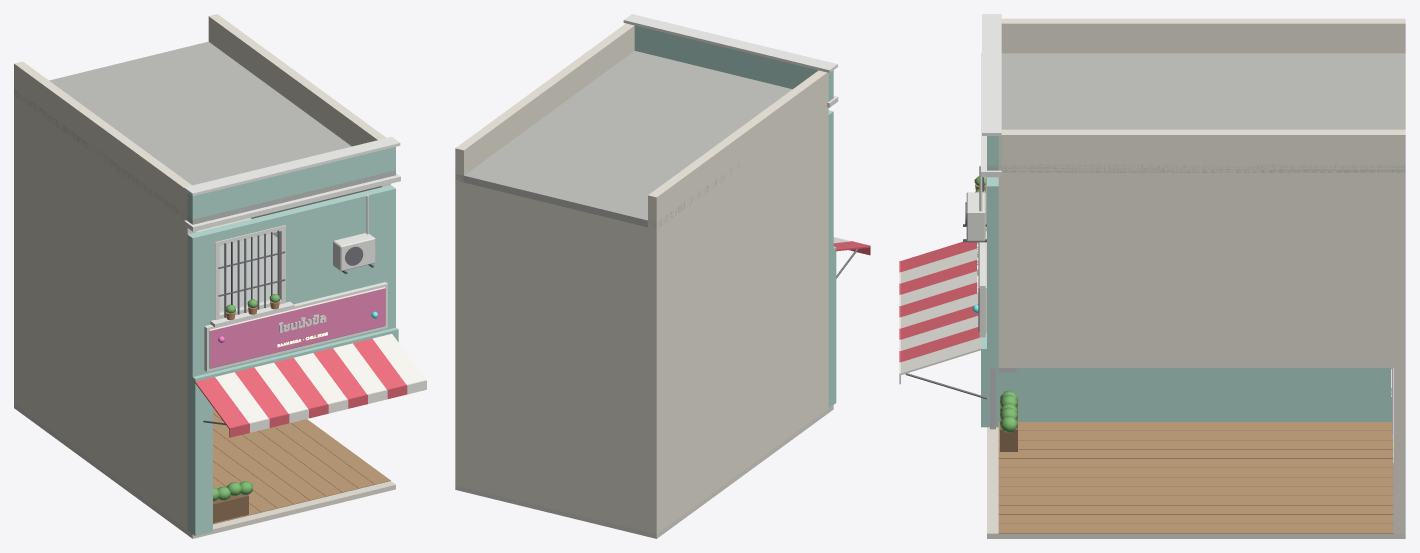
Rendered from SM_Shophouse_BobaAnnex.fbx.
The picture shows the model from 3 angles, left to right: view 1: azimuth 30°, elevation 25°; view 2: azimuth 150°, elevation 25°; view 3: azimuth 270°, elevation 25°; orthographic projection. The views are drawn at different scales.
Parts seen in each view (by area): view 1: SM_Shophouse_BobaAnnex; view 2: SM_Shophouse_BobaAnnex; view 3: SM_Shophouse_BobaAnnex.
Part boxes in pixels (<box>): SM_Shophouse_BobaAnnex: <box>14,14,426,538</box>; SM_Shophouse_BobaAnnex: <box>455,14,870,538</box>; SM_Shophouse_BobaAnnex: <box>899,14,1405,538</box>.
Size of the model in its own units: 4.7 by 7.51 by 8.47.
